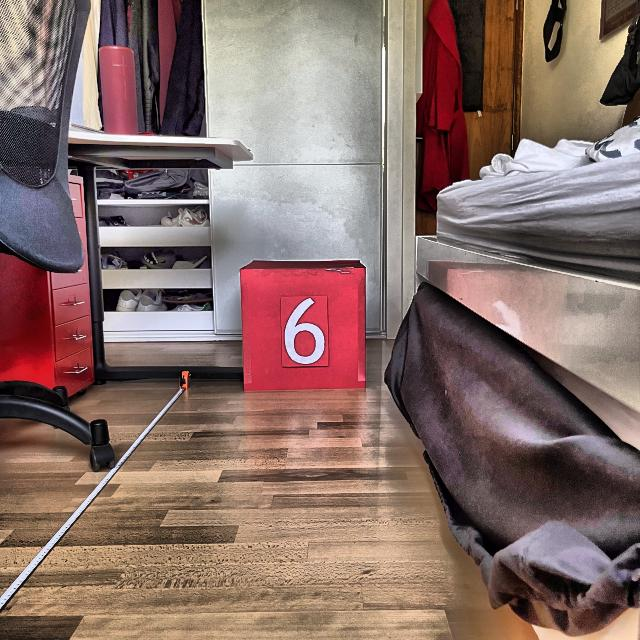red box: (240, 259, 366, 394)
six: (283, 297, 326, 365)
